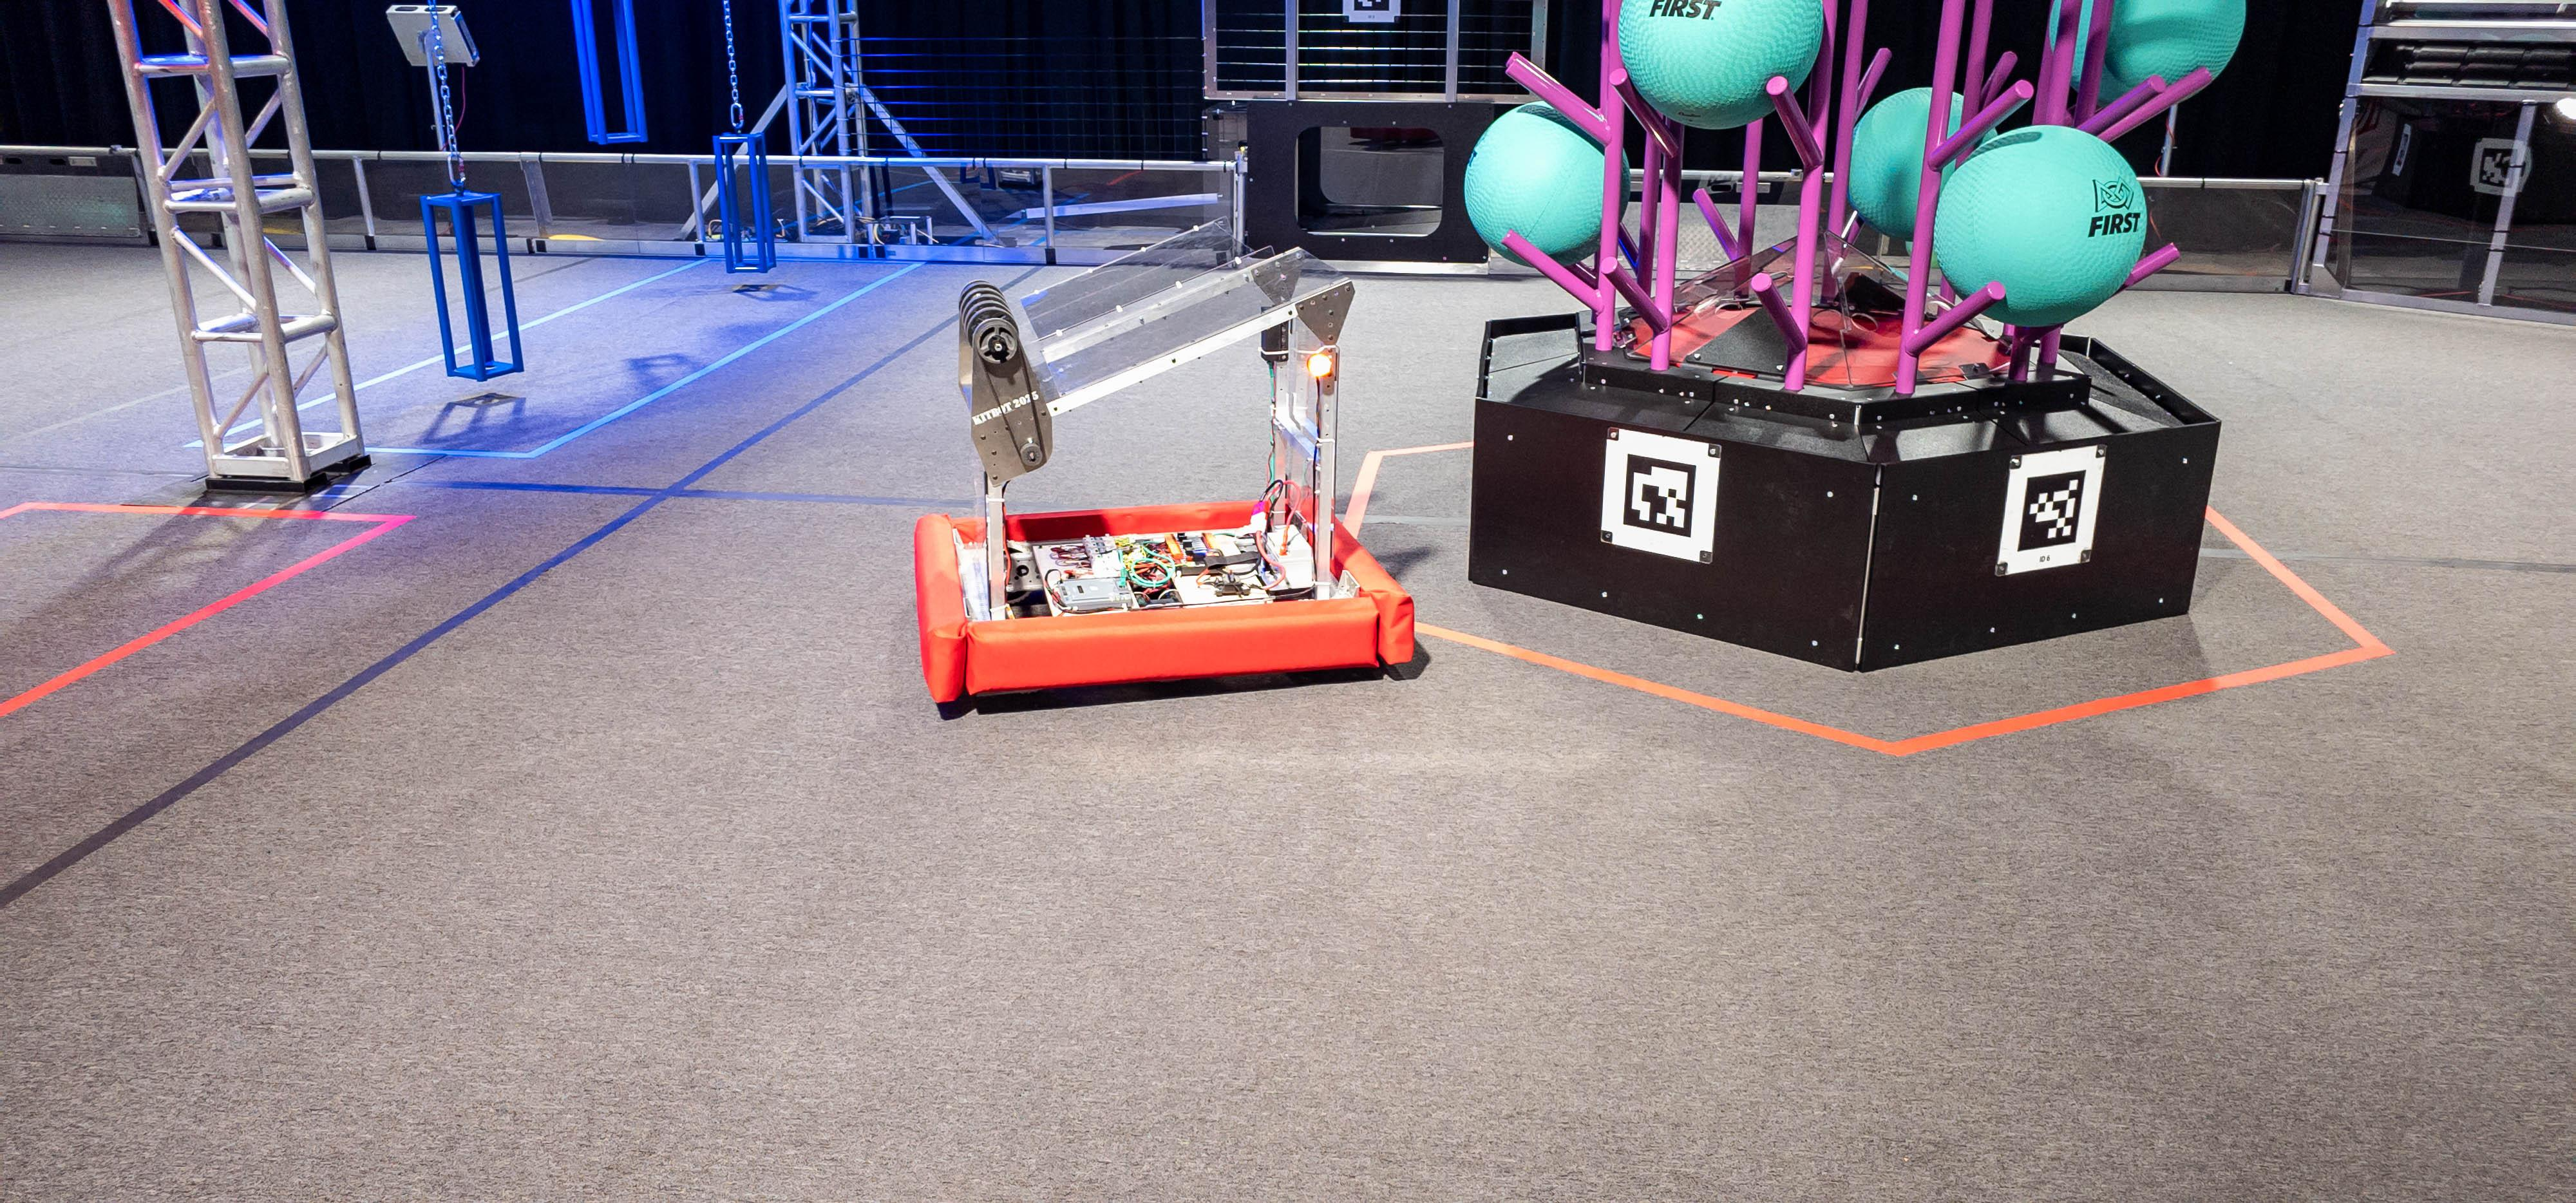ALGAE: (1935, 127, 2149, 327), (1464, 100, 1631, 268), (1618, 0, 1825, 128), (1845, 89, 1999, 240), (2049, 0, 2249, 107)
